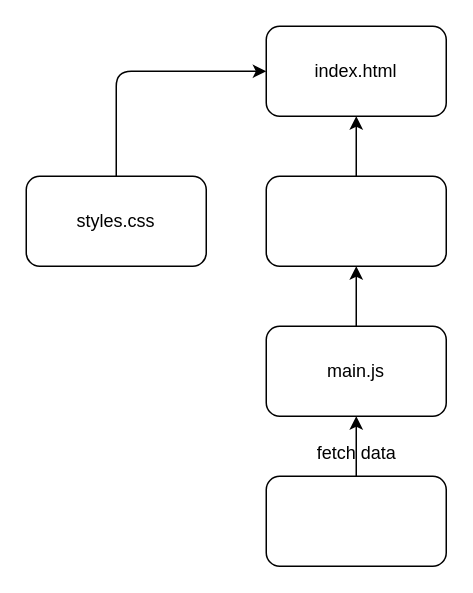
Image size: 473x593. Some labels were removed from this diagram. The centre of each missing label's shape, as x and y in pixels:
"movies.js" goes at [355,220].
"movies.json" goes at [355,520].
